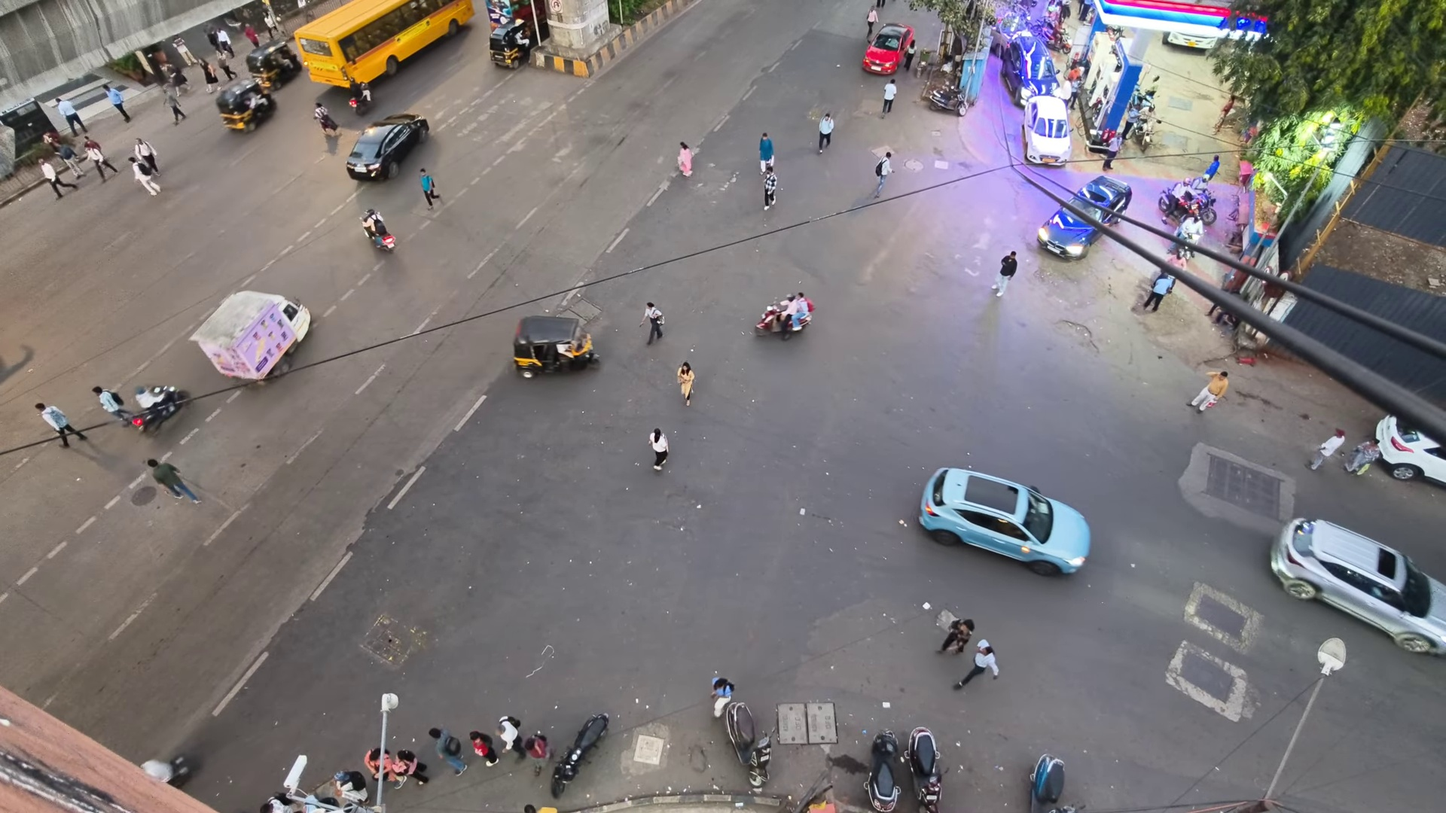driving: (1270, 519, 1445, 653), (919, 467, 1090, 574), (190, 291, 310, 379), (346, 114, 429, 179), (513, 315, 600, 377), (550, 713, 609, 798), (1375, 416, 1445, 483), (1000, 32, 1060, 104), (723, 702, 771, 787), (1021, 95, 1072, 165), (905, 726, 944, 812), (1037, 206, 1100, 258), (862, 23, 914, 75), (866, 731, 899, 812), (130, 385, 188, 431), (1158, 181, 1217, 225)
walking: (146, 458, 200, 503), (35, 403, 87, 447), (953, 639, 998, 688), (429, 728, 467, 775), (364, 748, 404, 787), (1190, 371, 1228, 412), (83, 136, 117, 181), (39, 159, 78, 198), (1308, 428, 1345, 469), (92, 386, 131, 422), (392, 749, 428, 786), (496, 715, 526, 759), (1142, 272, 1175, 312), (129, 156, 160, 196), (1345, 439, 1380, 474), (938, 619, 974, 653), (991, 251, 1017, 296), (523, 732, 550, 775), (56, 99, 87, 136), (334, 771, 368, 804), (102, 84, 130, 123), (639, 303, 664, 344), (469, 732, 499, 766), (133, 138, 160, 175), (710, 678, 735, 717), (57, 143, 84, 178), (163, 84, 186, 123), (313, 102, 339, 136), (873, 151, 891, 198), (419, 168, 440, 208), (649, 428, 668, 470), (677, 361, 695, 405), (172, 36, 197, 65), (759, 132, 775, 175), (1103, 132, 1121, 170), (818, 112, 834, 154), (1121, 105, 1140, 140), (215, 50, 236, 81), (200, 59, 218, 93), (764, 164, 777, 210), (882, 79, 896, 117), (677, 142, 692, 177), (216, 28, 234, 57), (1201, 156, 1220, 181), (904, 41, 917, 73), (243, 23, 258, 47), (866, 8, 877, 40), (206, 26, 218, 50)
